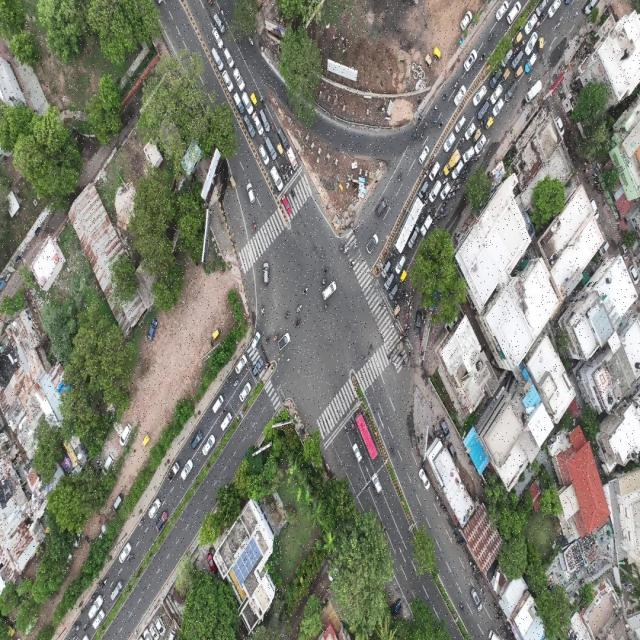3W: (209, 326, 219, 345), (141, 432, 151, 447), (227, 175, 235, 191), (513, 33, 521, 49), (486, 118, 494, 132), (537, 38, 546, 50), (276, 142, 283, 157), (250, 92, 258, 105), (514, 66, 523, 77), (425, 54, 432, 68), (432, 48, 440, 60), (400, 270, 407, 283), (394, 306, 400, 319), (503, 69, 510, 79)
Bus: (396, 196, 424, 253), (355, 412, 378, 461)
Cars: (504, 80, 518, 106), (87, 594, 103, 616), (523, 84, 539, 106), (364, 231, 379, 254), (467, 588, 482, 611), (210, 46, 223, 72), (269, 165, 282, 191), (258, 106, 270, 134), (110, 576, 122, 604), (372, 472, 384, 500), (119, 421, 132, 446), (470, 87, 486, 107), (419, 142, 432, 166), (202, 434, 216, 456), (506, 1, 520, 23), (117, 542, 132, 562), (493, 0, 507, 21), (181, 458, 193, 482), (419, 466, 430, 492), (222, 44, 235, 66), (429, 180, 442, 202), (442, 132, 456, 152), (256, 144, 268, 167), (250, 330, 262, 353), (155, 509, 167, 532), (243, 113, 254, 138), (222, 70, 233, 94), (231, 91, 242, 115), (488, 68, 500, 90), (464, 48, 476, 70), (191, 428, 204, 448), (93, 610, 106, 630), (239, 380, 252, 400), (322, 281, 338, 297), (148, 497, 160, 518), (453, 85, 466, 104), (280, 194, 291, 216), (212, 394, 224, 414), (524, 14, 536, 34), (464, 121, 476, 141), (277, 332, 290, 350), (533, 0, 546, 18), (215, 9, 225, 32), (526, 54, 538, 73), (460, 10, 472, 29), (376, 198, 388, 217), (548, 0, 561, 17), (500, 50, 511, 70), (492, 98, 504, 116), (247, 182, 256, 206), (251, 358, 263, 376), (277, 127, 288, 146), (235, 354, 247, 371), (220, 414, 232, 431), (454, 116, 466, 133), (475, 134, 486, 152), (262, 262, 270, 286), (352, 443, 361, 464), (440, 183, 451, 200), (112, 493, 123, 510), (414, 311, 422, 334), (462, 147, 474, 162), (430, 162, 439, 180), (389, 284, 399, 300), (419, 181, 428, 198), (382, 260, 391, 276), (260, 304, 265, 314)
LCV: (444, 148, 461, 174), (284, 148, 298, 173), (167, 461, 180, 482)
M2W: (137, 518, 146, 530), (396, 351, 405, 362), (442, 90, 450, 102), (74, 619, 82, 631), (557, 18, 564, 31), (294, 318, 304, 327), (296, 304, 304, 315), (352, 240, 359, 252), (322, 300, 330, 310), (390, 441, 395, 457), (346, 261, 354, 271), (284, 311, 290, 324), (251, 220, 257, 233), (352, 225, 360, 234), (386, 345, 392, 357), (342, 424, 348, 436), (348, 420, 354, 432), (320, 251, 326, 262), (419, 131, 425, 142), (103, 577, 109, 588), (438, 119, 444, 130), (248, 35, 254, 46), (289, 188, 294, 200), (454, 79, 460, 89), (433, 102, 439, 112), (432, 116, 438, 126), (265, 335, 271, 345), (338, 243, 345, 251), (225, 377, 231, 386), (423, 121, 429, 130), (443, 211, 449, 220), (324, 264, 330, 273), (397, 172, 402, 182), (403, 321, 408, 331), (407, 296, 412, 306), (458, 138, 463, 148), (481, 52, 486, 62), (489, 32, 494, 42), (412, 130, 417, 140), (233, 378, 238, 388), (83, 624, 90, 631), (302, 287, 308, 295), (422, 172, 428, 180), (408, 348, 412, 360), (388, 252, 393, 261), (403, 311, 408, 320), (480, 119, 485, 128), (433, 217, 439, 224), (398, 333, 403, 341), (425, 208, 430, 216), (443, 177, 448, 185), (274, 331, 278, 341), (404, 292, 410, 298), (454, 185, 460, 191), (400, 282, 405, 289), (437, 209, 442, 216), (424, 200, 429, 207), (412, 286, 416, 294), (286, 174, 290, 182), (282, 174, 286, 182), (430, 208, 436, 213), (441, 203, 445, 210), (460, 173, 464, 180), (469, 160, 473, 167), (392, 300, 396, 306), (395, 321, 399, 327), (400, 297, 404, 303), (463, 166, 467, 171)
